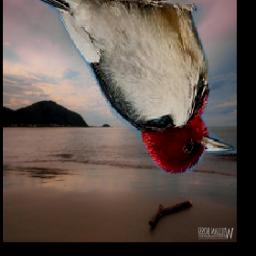Woodpecker: (18, 0, 237, 174)
